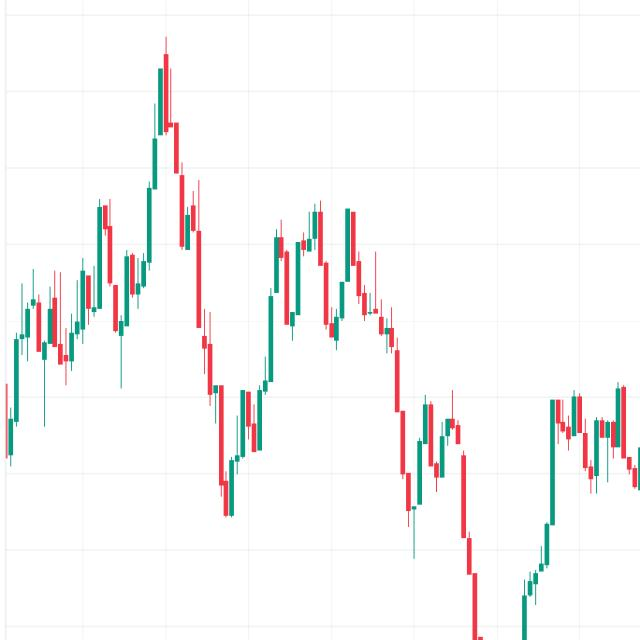Triple-Top: (254, 182, 408, 370)
